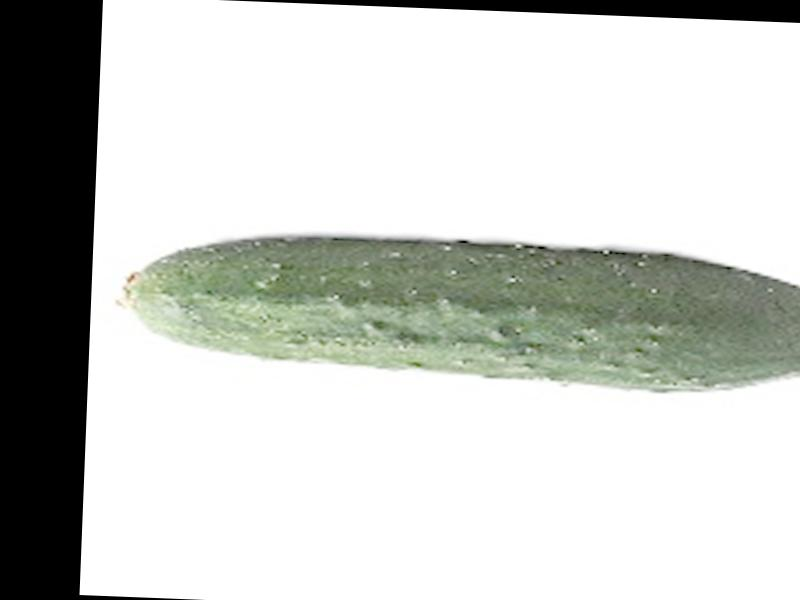Cucumber: (117, 228, 800, 397)
